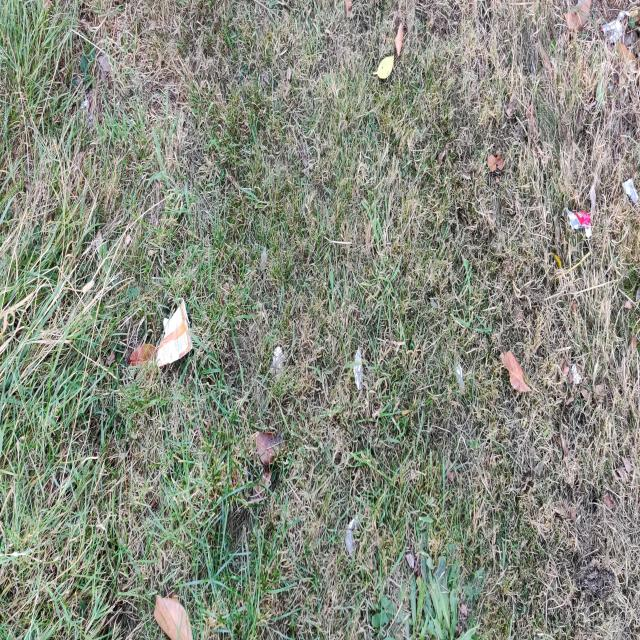litter: (154, 287, 202, 383)
